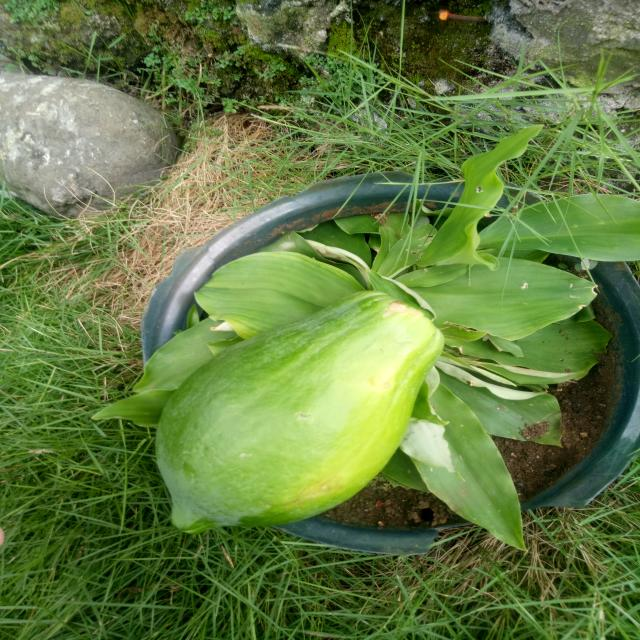Pepaya unrippen: (138, 293, 440, 540)
